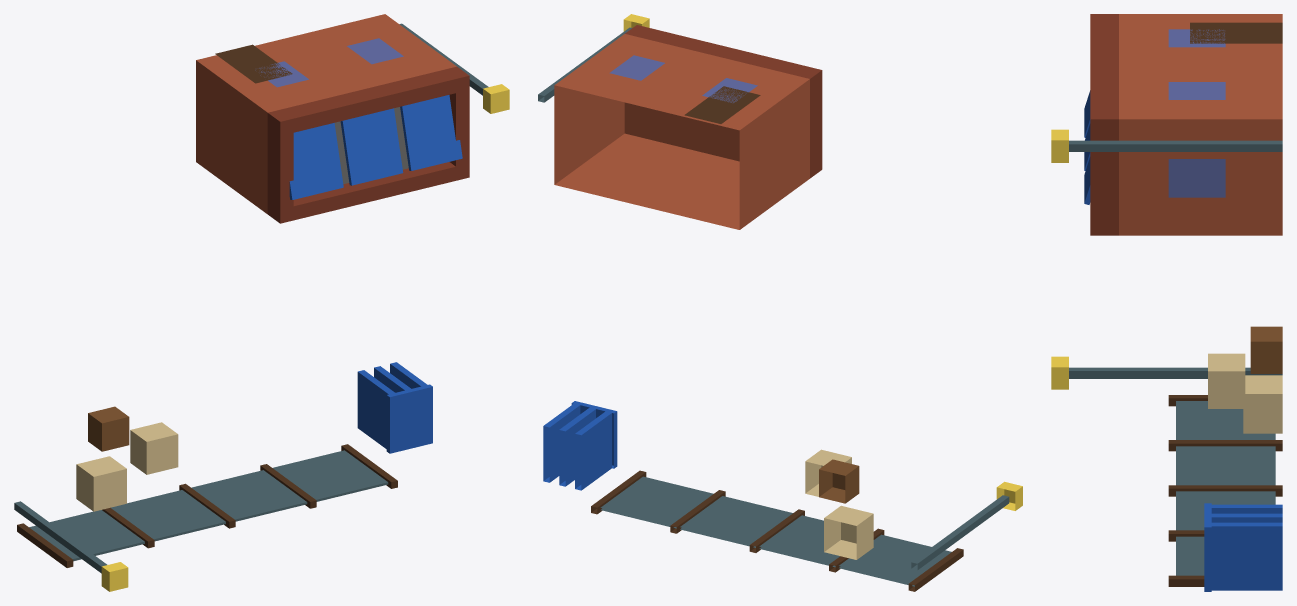
3 views of the same model, side by side, from view 1: azimuth 30°, elevation 25°; view 2: azimuth 150°, elevation 25°; view 3: azimuth 270°, elevation 25° (orthographic). The views are drawn at different scales.
Parts seen in each view (by area): view 1: stop_truck_drive_default; view 2: stop_truck_drive_default; view 3: stop_truck_drive_default.
Part boxes in pixels (x1,y1,x2,y2): stop_truck_drive_default: (14, 14, 509, 591); stop_truck_drive_default: (538, 14, 1022, 591); stop_truck_drive_default: (1051, 14, 1282, 591).
Bounding box in the file's own units: 14.8 × 15.18 × 6.5.
